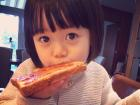face: (31, 12, 89, 74)
